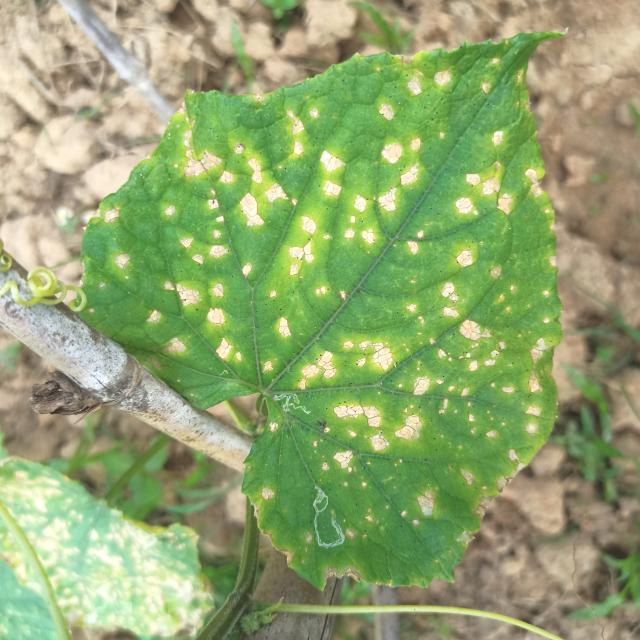disease_cucumber: (107, 64, 556, 568)
